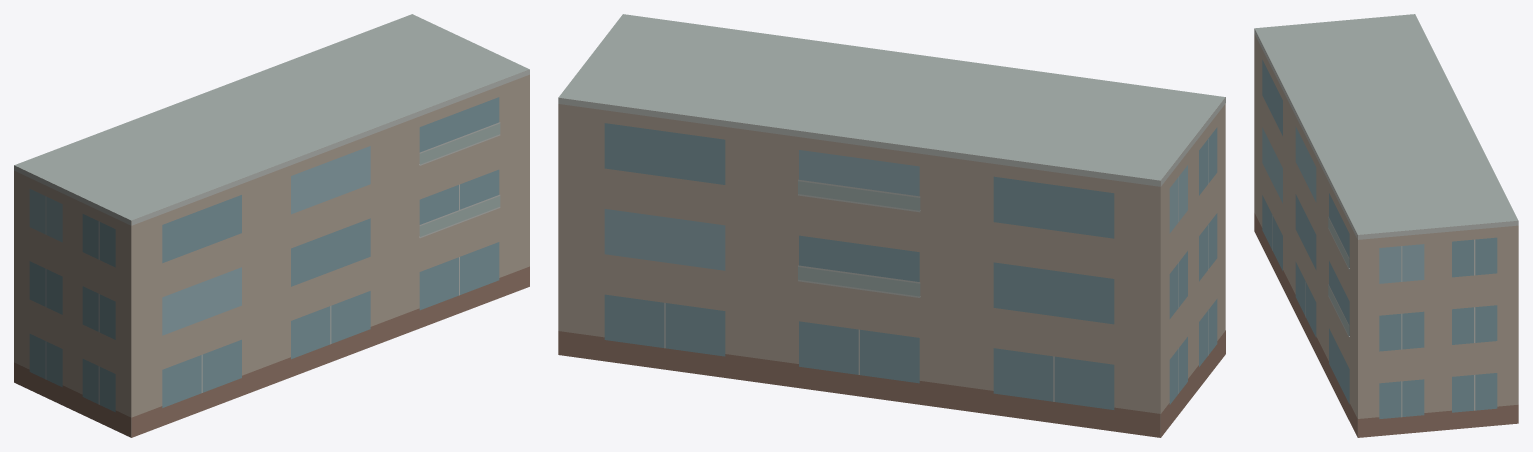
Rendered from survey-upis-33007676.glb.
The picture shows the model from 3 angles, left to right: view 1: azimuth 30°, elevation 25°; view 2: azimuth 150°, elevation 25°; view 3: azimuth 270°, elevation 25°; orthographic projection. The views are drawn at different scales.
Visible parts, largest first — view 1: survey-upis-33007676.tmp; view 2: survey-upis-33007676.tmp; view 3: survey-upis-33007676.tmp.
Part boxes in pixels (left/top/right/bottom): survey-upis-33007676.tmp: left=14, top=14, right=529, bottom=437; survey-upis-33007676.tmp: left=558, top=14, right=1225, bottom=437; survey-upis-33007676.tmp: left=1254, top=14, right=1518, bottom=437.
Size of the model in its own units: 23.6 by 10.1 by 11.93.
